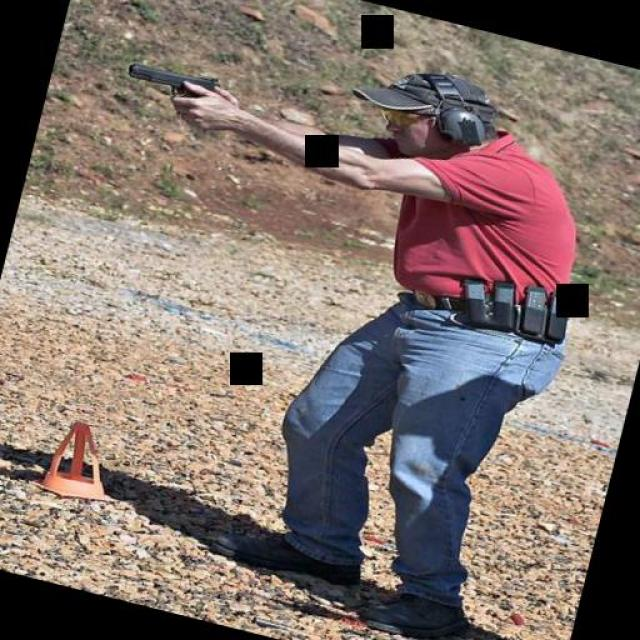gun: (120, 52, 224, 112)
